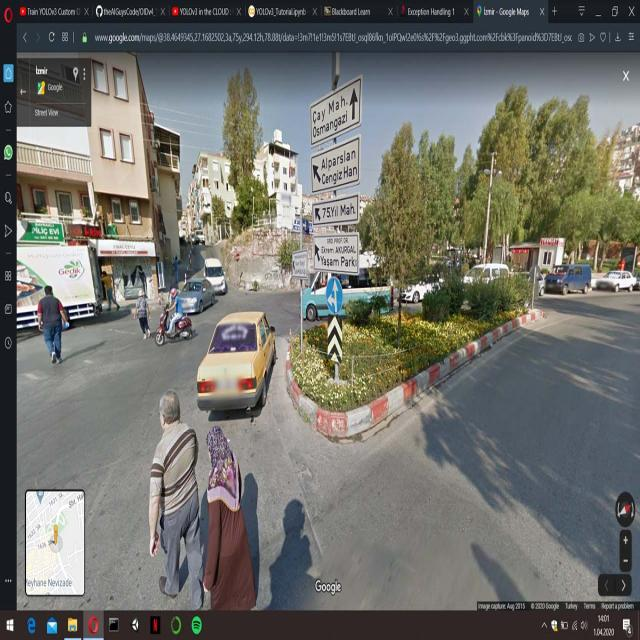ilerisol: (325, 276, 342, 312)
